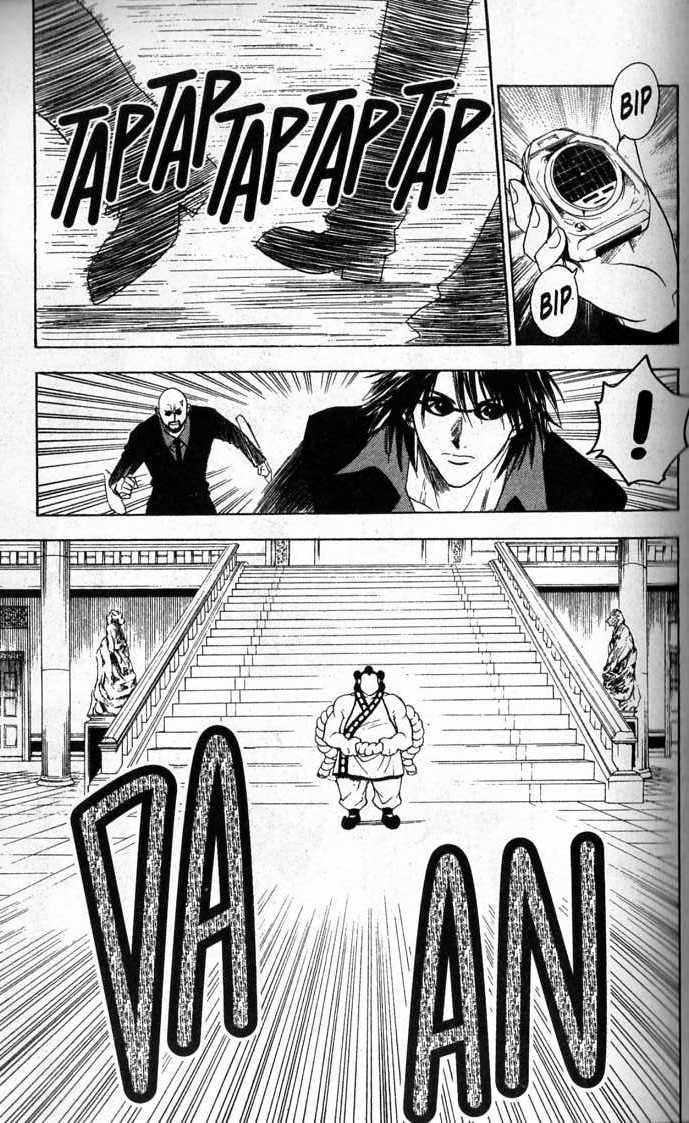Baloon: (592, 356, 689, 482), (612, 57, 660, 143), (528, 268, 581, 338)
Vignetta: (1, 538, 678, 1123), (27, 1, 516, 345), (38, 369, 678, 511), (497, 85, 676, 345)
